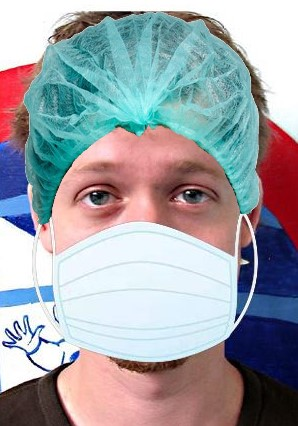with_mask_and_cap: (25, 13, 262, 372)
